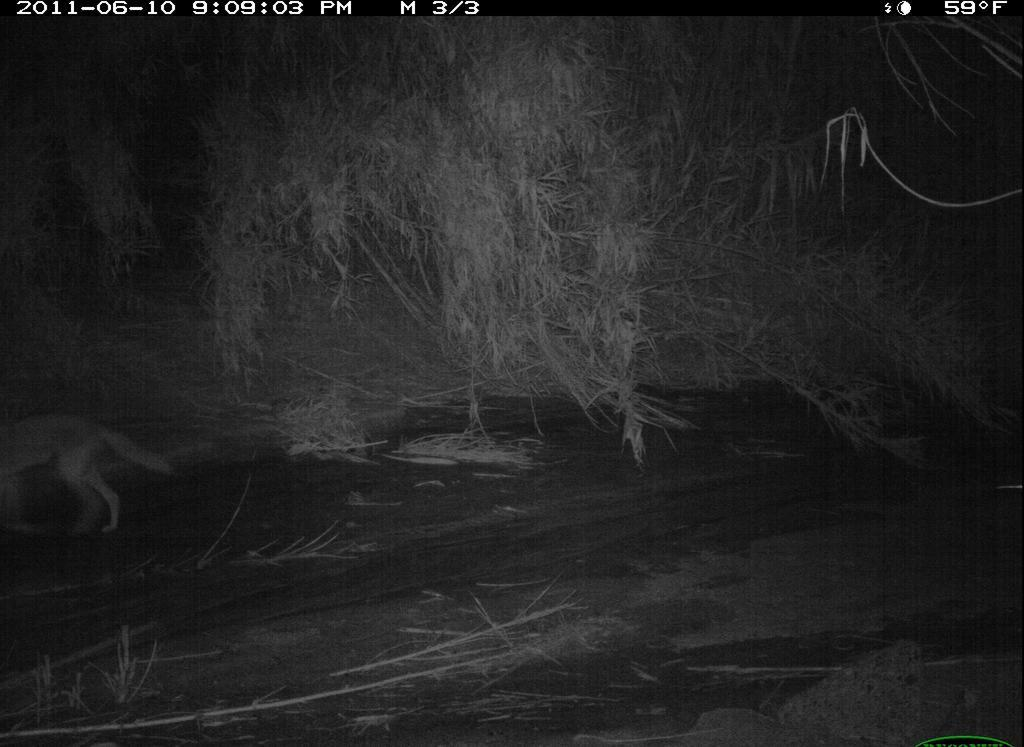coyote: (4, 405, 182, 534)
